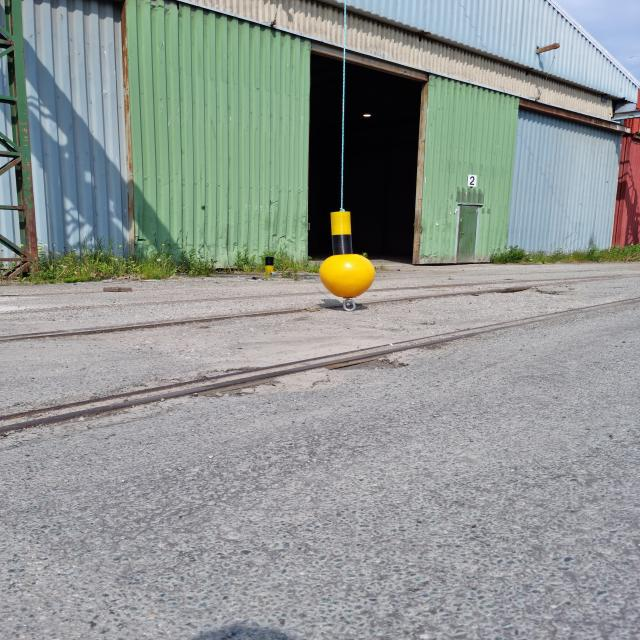west: (320, 212, 376, 297)
